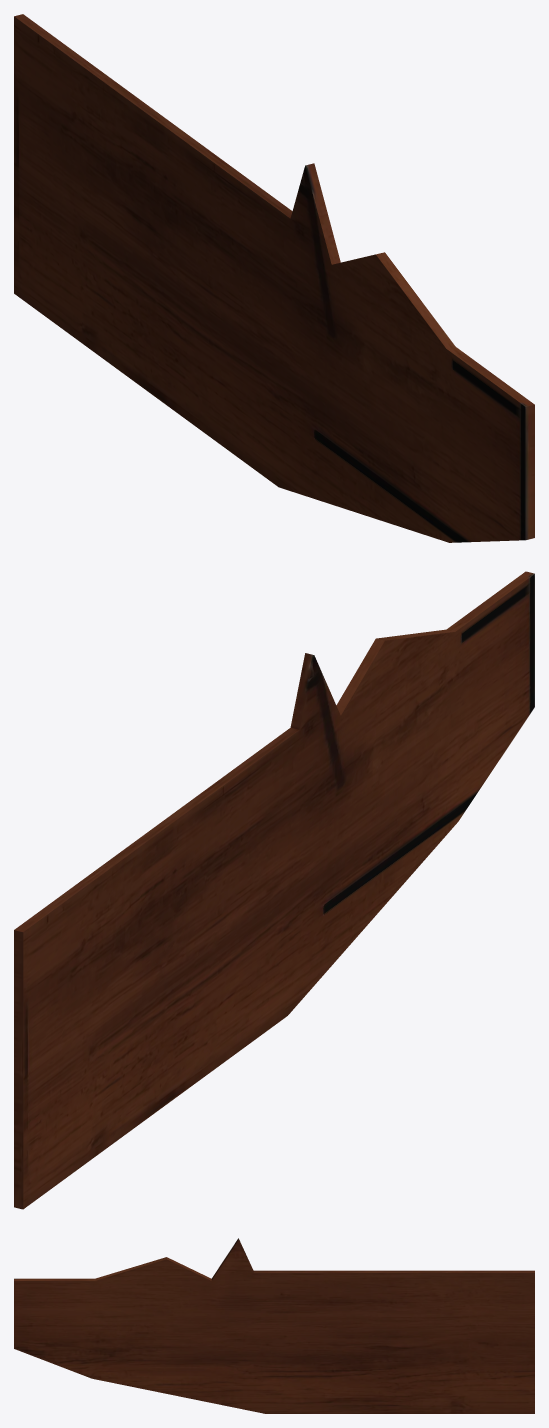
Rendered from body__right_side.glb.
3 views of the same model, one above another, from view 1: azimuth 30°, elevation 25°; view 2: azimuth 150°, elevation 25°; view 3: azimuth 270°, elevation 25° (orthographic). The views are drawn at different scales.
Parts seen in each view (by area): view 1: geometry_0; view 2: geometry_0; view 3: geometry_0.
Part boxes in pixels (left/top/right/bottom): geometry_0: left=14, top=14, right=534, bottom=542; geometry_0: left=14, top=571, right=534, bottom=1209; geometry_0: left=14, top=1238, right=534, bottom=1413.
Bounding box in the file's own units: 0.018 × 0.64 × 1.74.
Materials: 1 (1 with a texture image).
